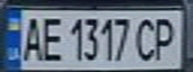1: (63, 15, 84, 62), (97, 15, 118, 62)
3: (81, 15, 100, 62)
7: (112, 15, 133, 62)
A: (18, 14, 45, 63)
C: (133, 15, 160, 62)
E: (39, 14, 66, 63)
P: (151, 14, 181, 62)
